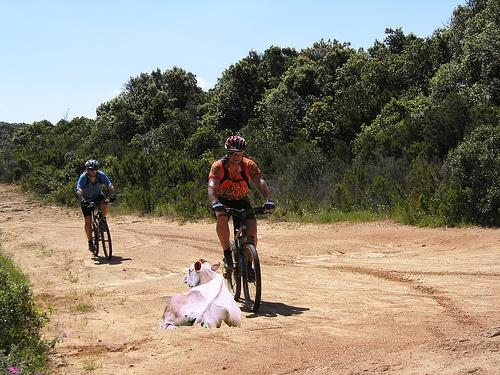tampered: (153, 259, 241, 329)
